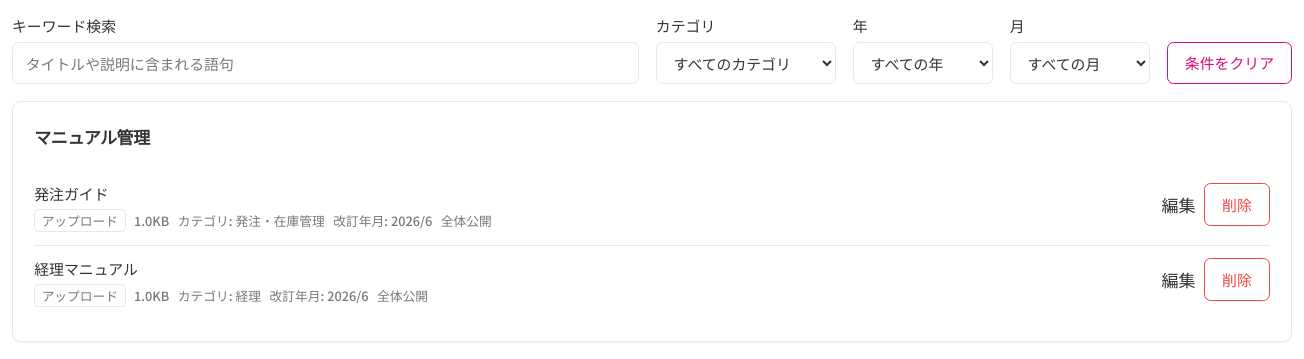
Test: ManualManagementListClient › カテゴリ×年×月×キーワードの併用フィルタで絞り込む
Select "発注・在庫管理" in the dropdown labelled "カテゴリ" at (746, 63), box 656,42 -> 836,84
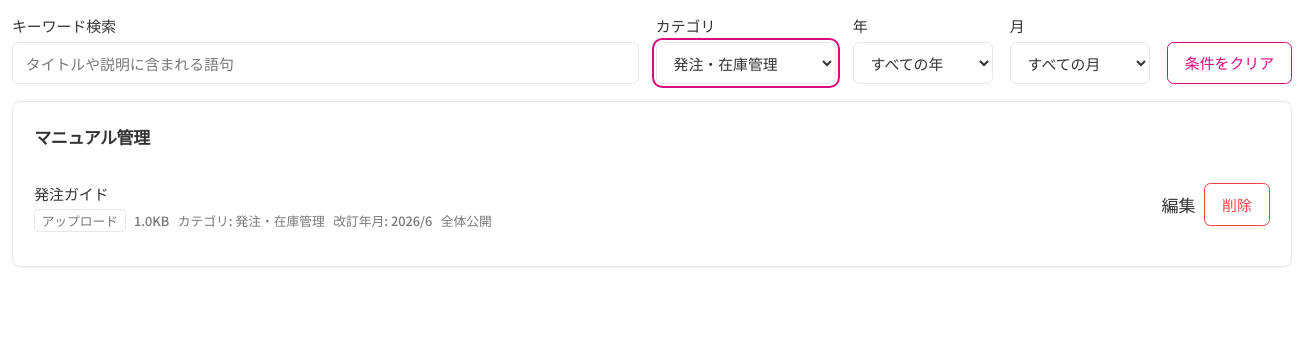
expect the text "発注ガイド" is shown: met, box 34,183 -> 109,204
expect the text "経理マニュアル" is gone: met
